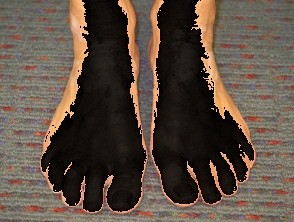vitiligo: (133, 0, 264, 212), (38, 0, 149, 215)
